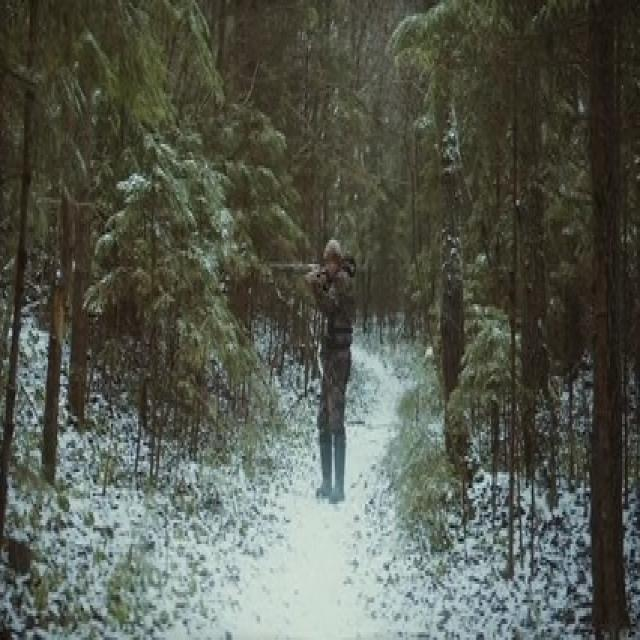Gun_Holder: (269, 254, 330, 282)
Person: (311, 232, 365, 510)
